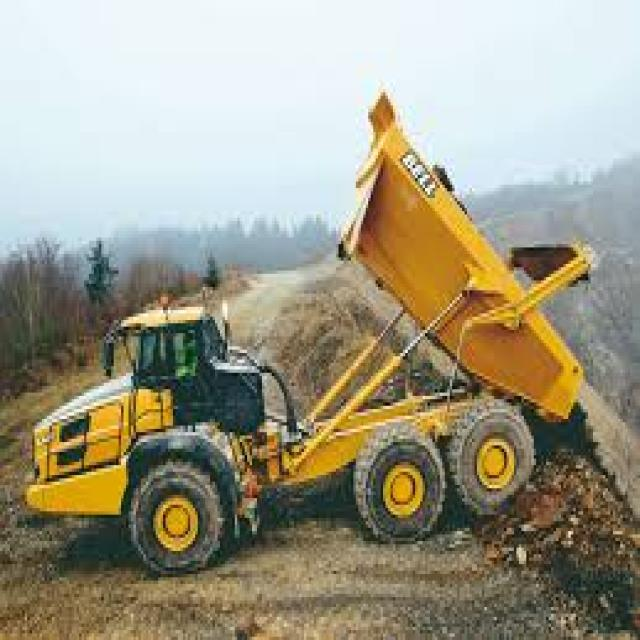dump_truck: (12, 79, 606, 577)
